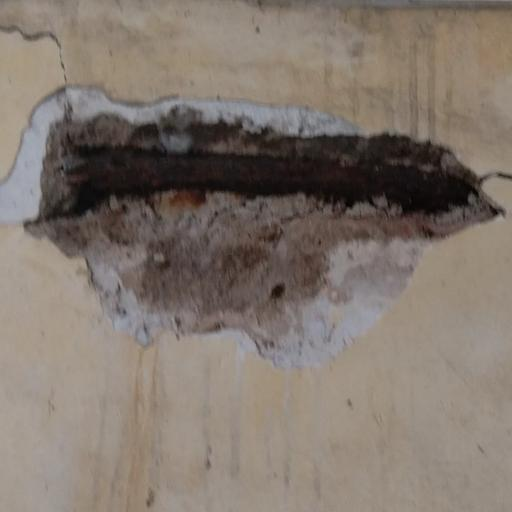spalling: (23, 71, 497, 374)
